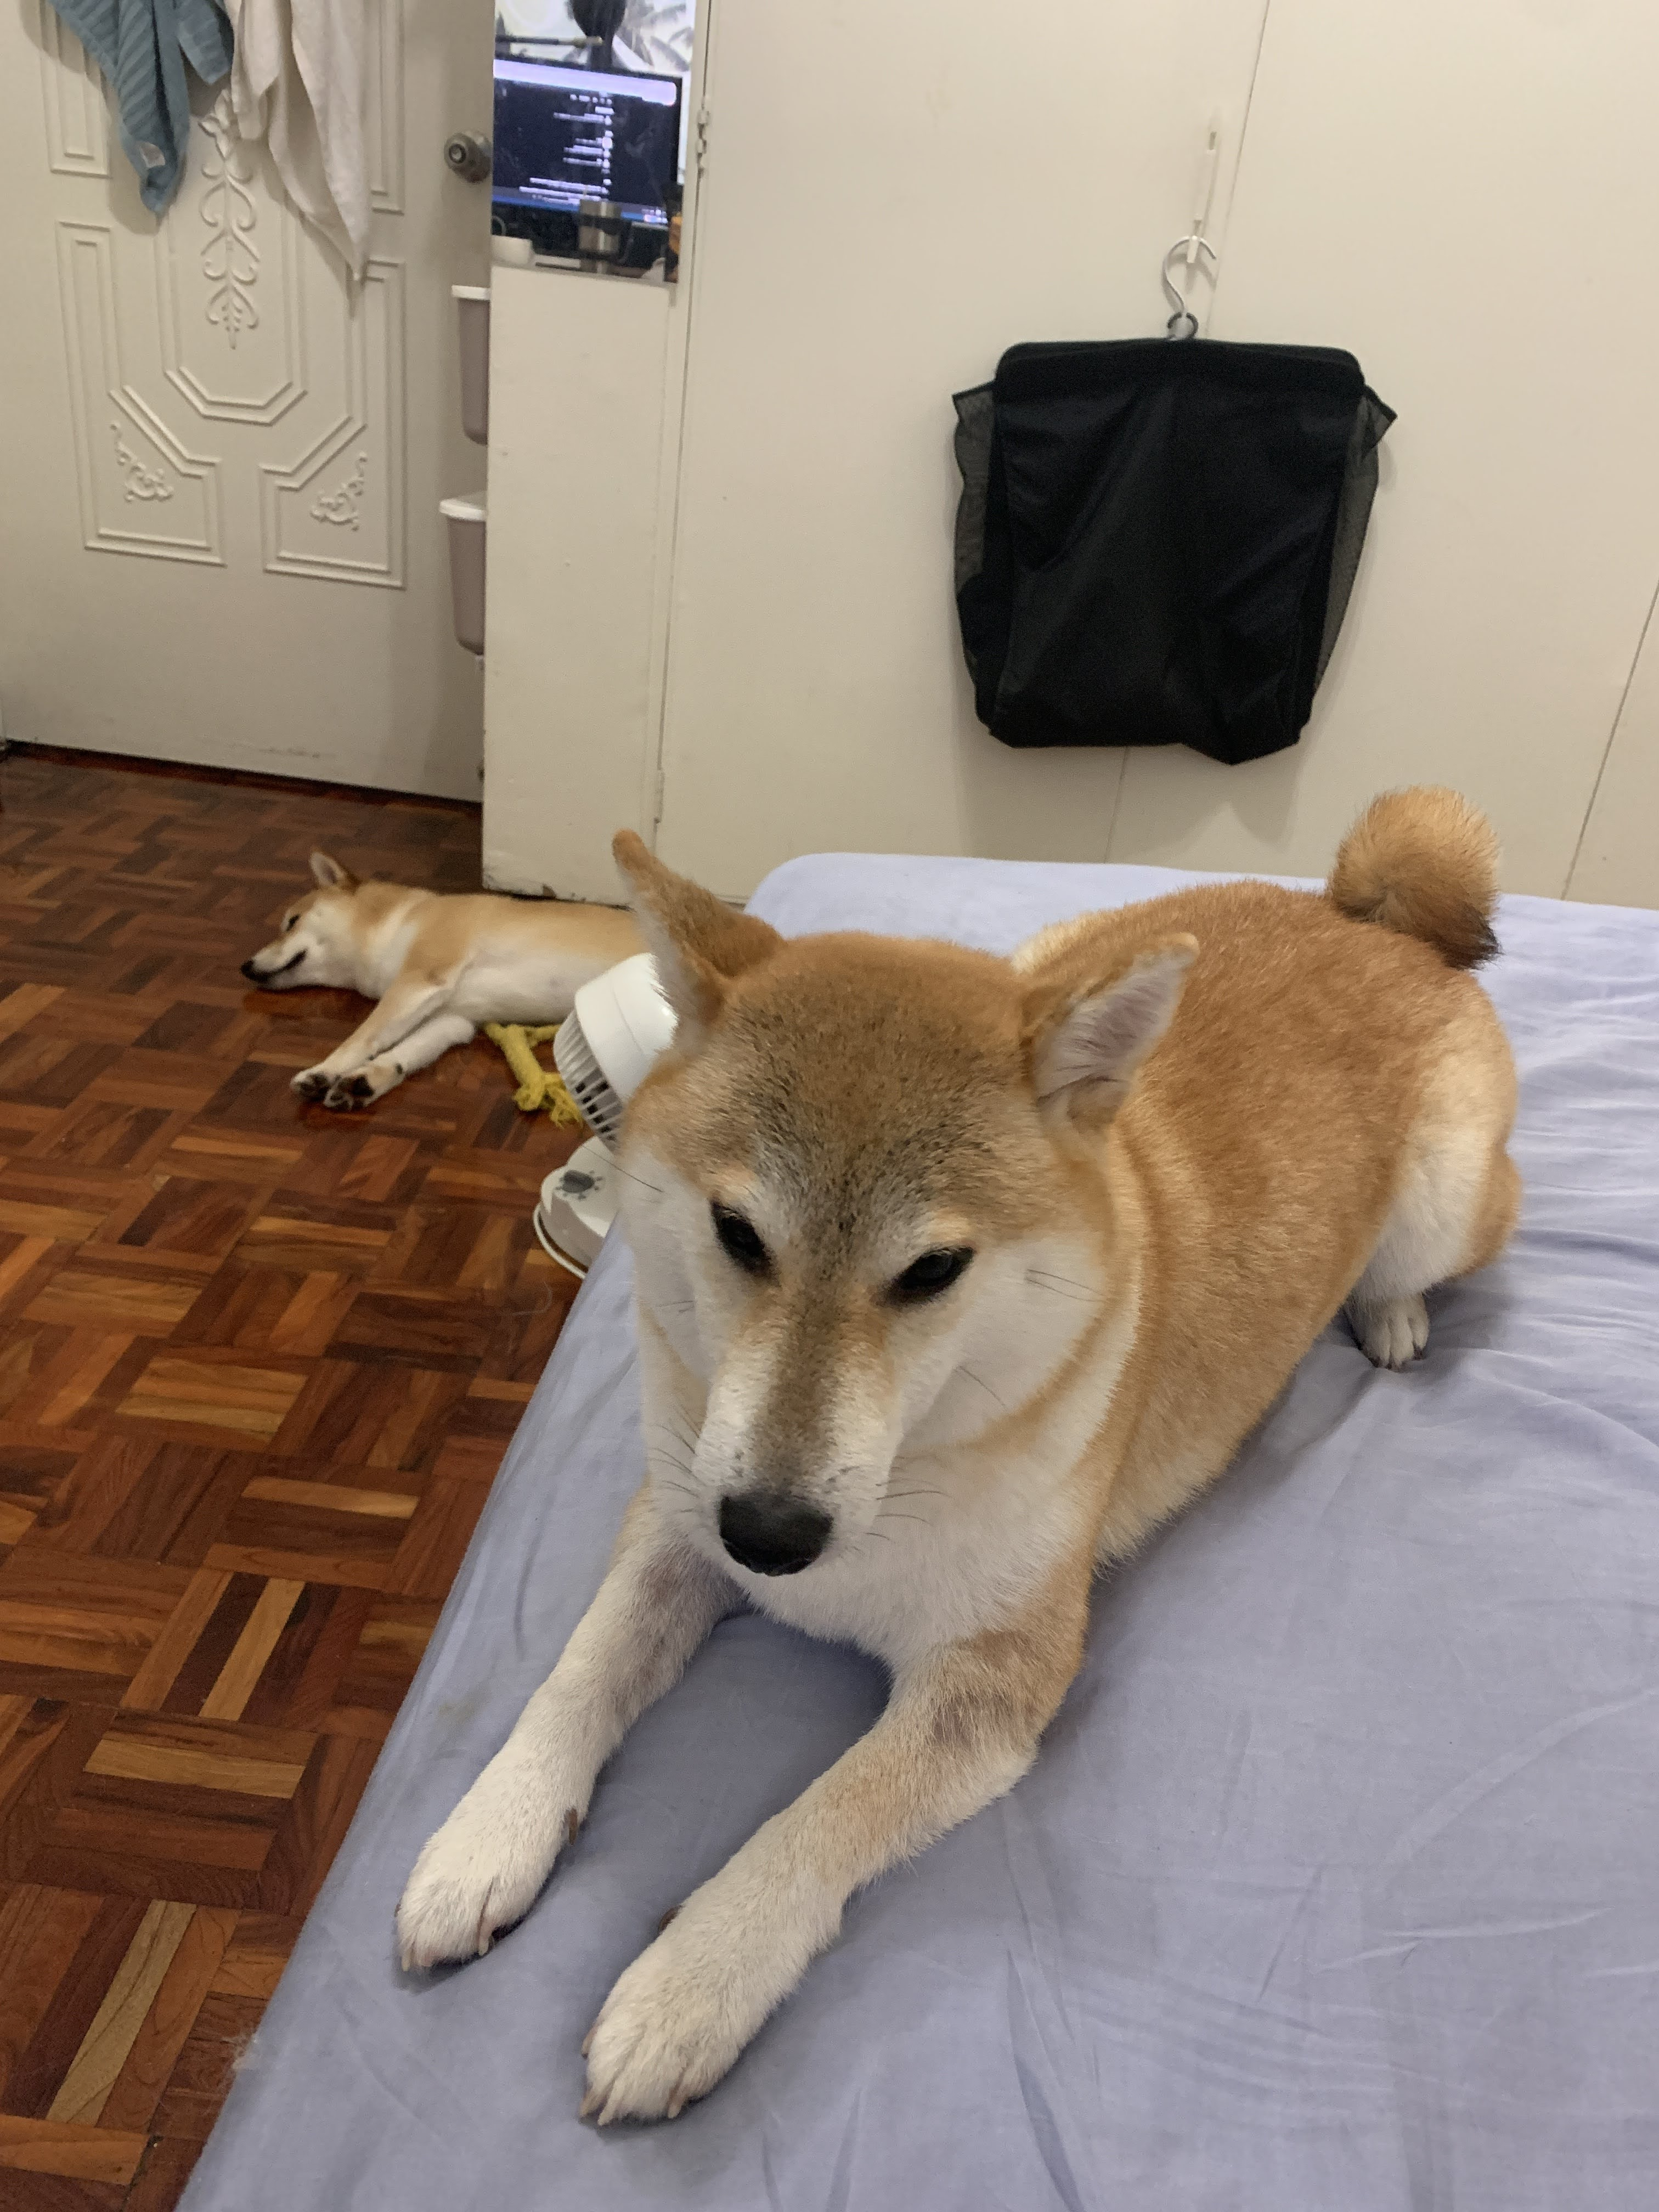Lie down: (396, 752, 1528, 2174), (230, 838, 671, 1172)
